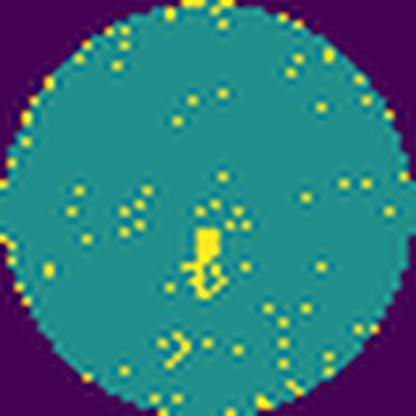Loc: (184, 224, 226, 300)
